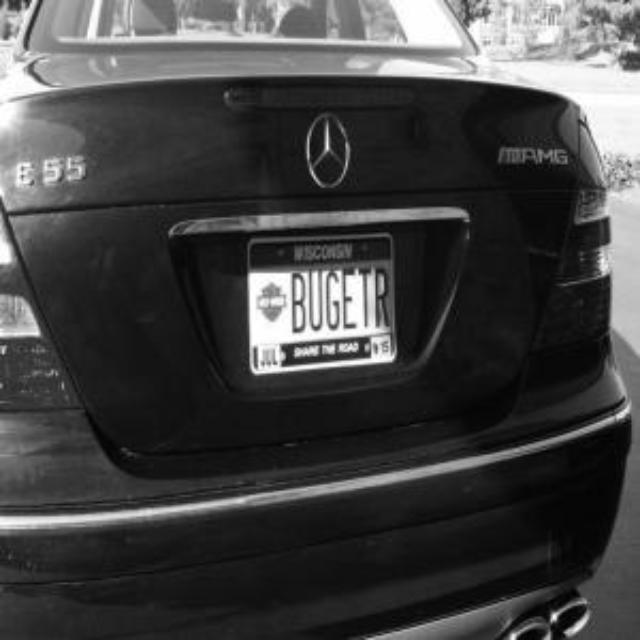License Plate: (248, 233, 396, 374)
